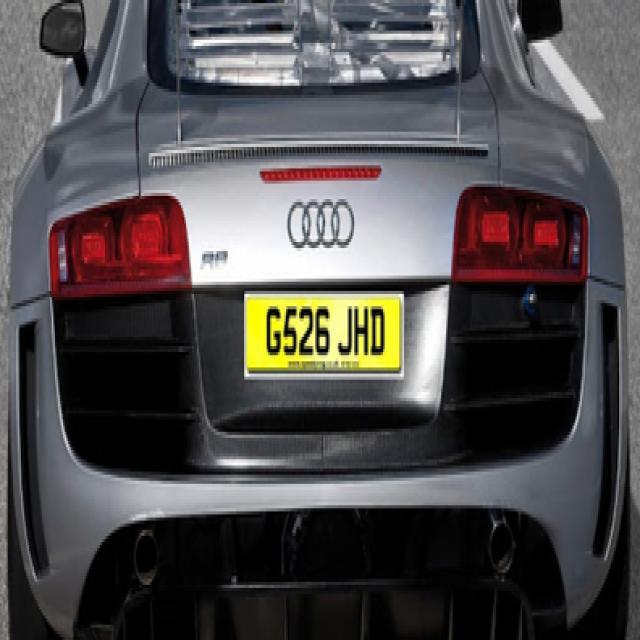license_plate: (244, 294, 402, 380)
